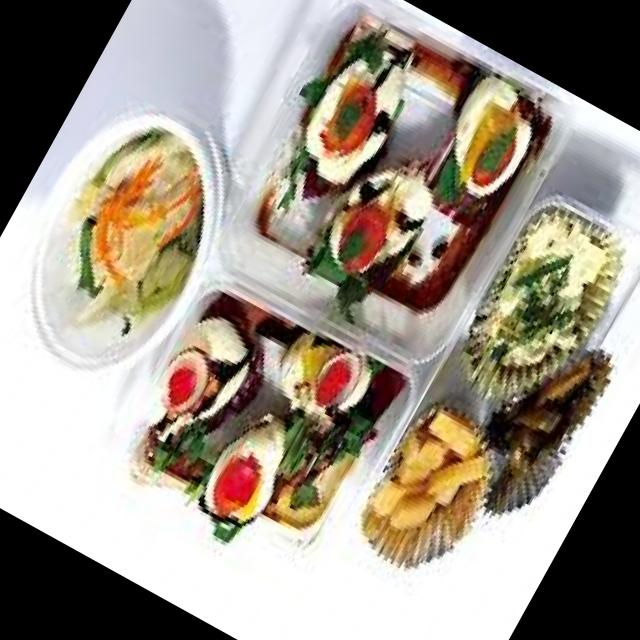aluminum foil: (454, 192, 628, 403), (330, 394, 490, 599), (480, 336, 628, 542)
plastic-bowl: (201, 0, 590, 380), (101, 262, 439, 592), (11, 95, 234, 393)
